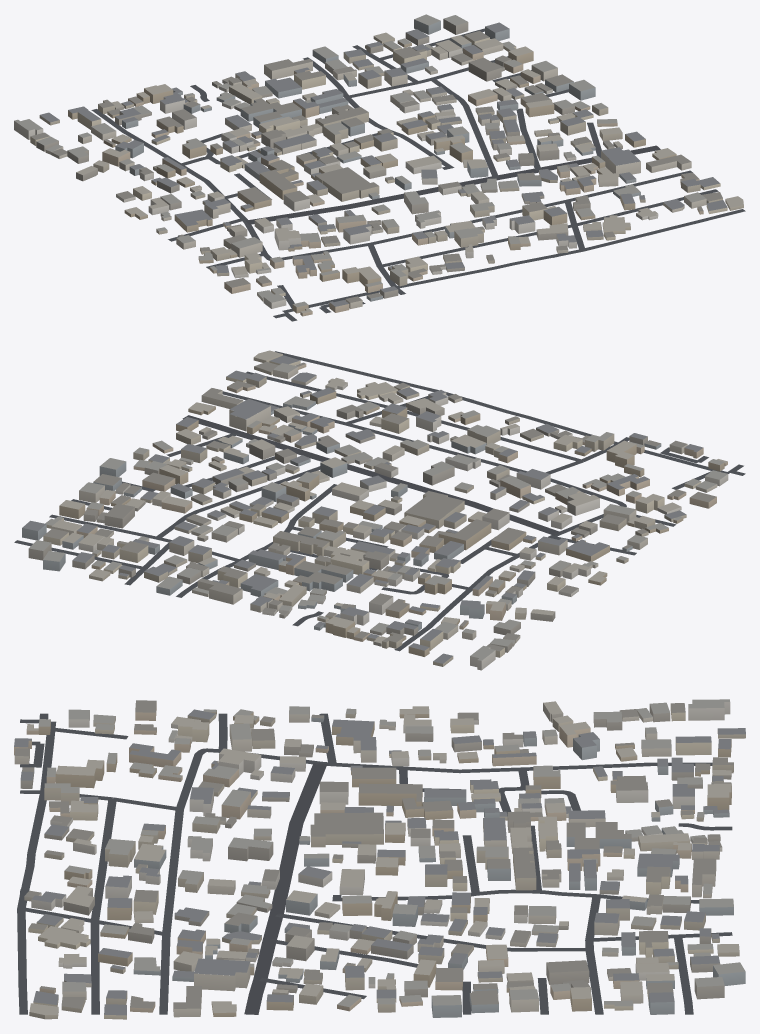
The picture shows the model from 3 angles, top to bottom: view 1: azimuth 30°, elevation 25°; view 2: azimuth 150°, elevation 25°; view 3: azimuth 270°, elevation 25°; orthographic projection. The views are drawn at different scales.
Parts seen in each view (by area): view 1: buildings_roofs, buildings_walls, roads; view 2: buildings_roofs, buildings_walls, roads; view 3: buildings_roofs, buildings_walls, roads.
Part boxes in pixels (box(x1,y1,x2,y2)): buildings_roofs: box(14, 14, 743, 313); buildings_walls: box(14, 19, 743, 316); roads: box(91, 28, 745, 321); buildings_roofs: box(22, 350, 727, 663); buildings_walls: box(22, 354, 728, 670); roads: box(14, 351, 745, 651); buildings_roofs: box(14, 699, 745, 1015); buildings_walls: box(14, 701, 745, 1019); roads: box(17, 713, 732, 1014).
Size of the model in its own units: 517 by 12.01 by 514.
